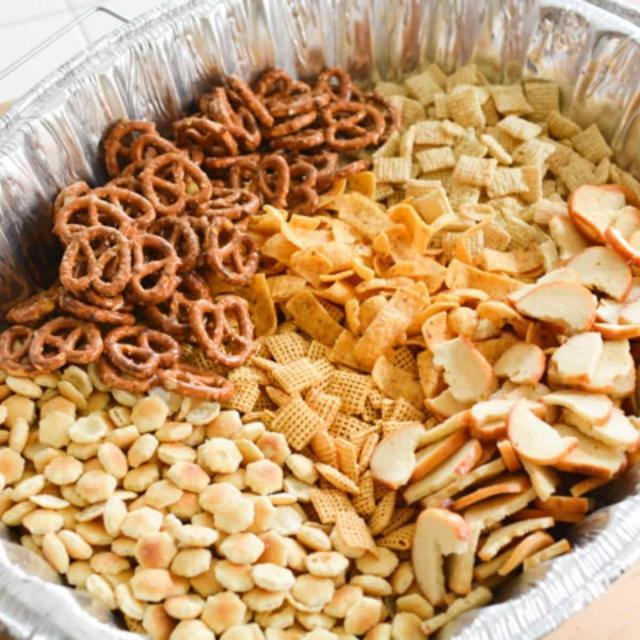Salatini: (46, 85, 632, 623)
